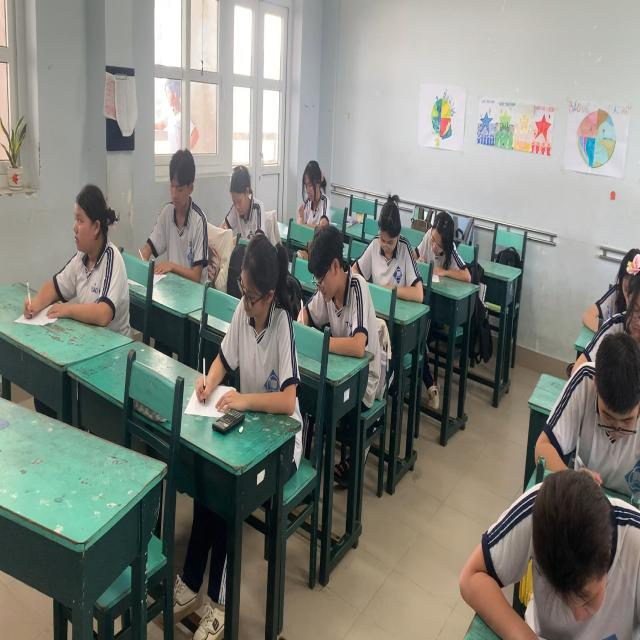not_cheating: (495, 457, 640, 640), (231, 233, 295, 421), (301, 220, 375, 368), (60, 177, 123, 335), (574, 338, 640, 468), (147, 145, 207, 284), (363, 196, 422, 301), (414, 203, 474, 284), (221, 154, 269, 239), (603, 253, 640, 356), (287, 154, 329, 230)
